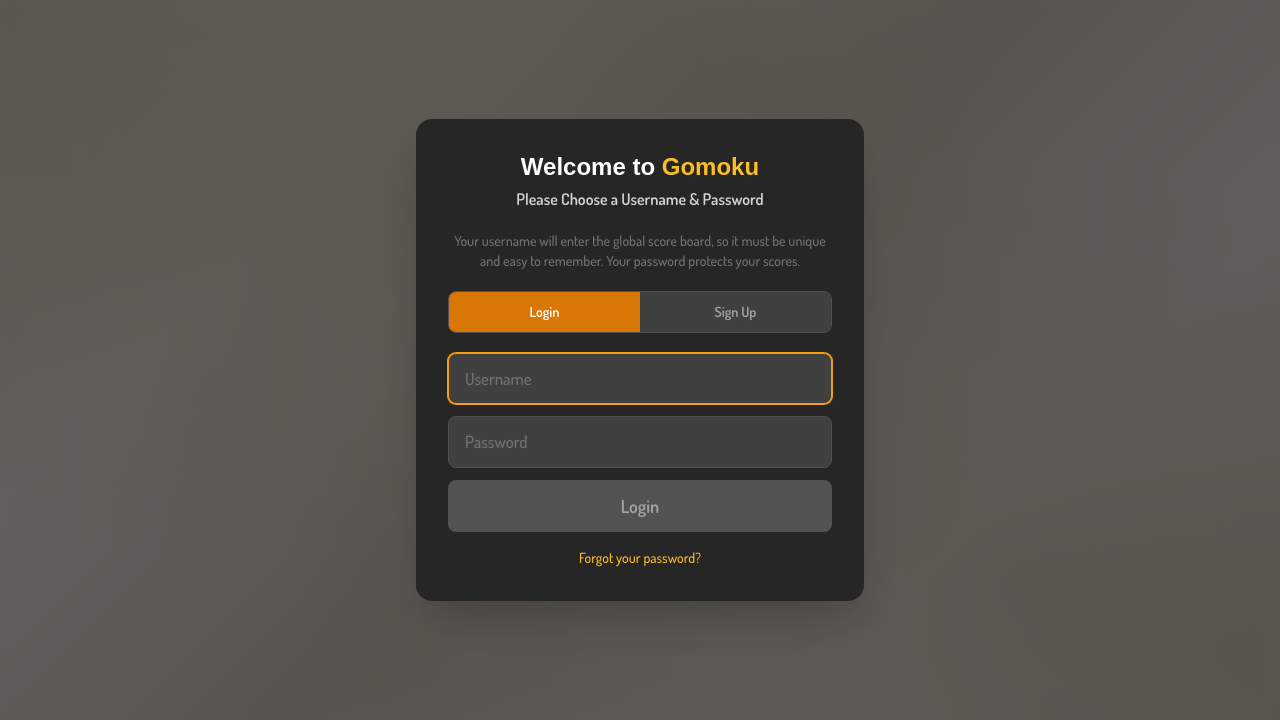
Test: AuthModal › validates username length
This screenshot has width=1280, height=720.
Click the button "Sign Up".
click(736, 312)  # box [640,292,831,332]
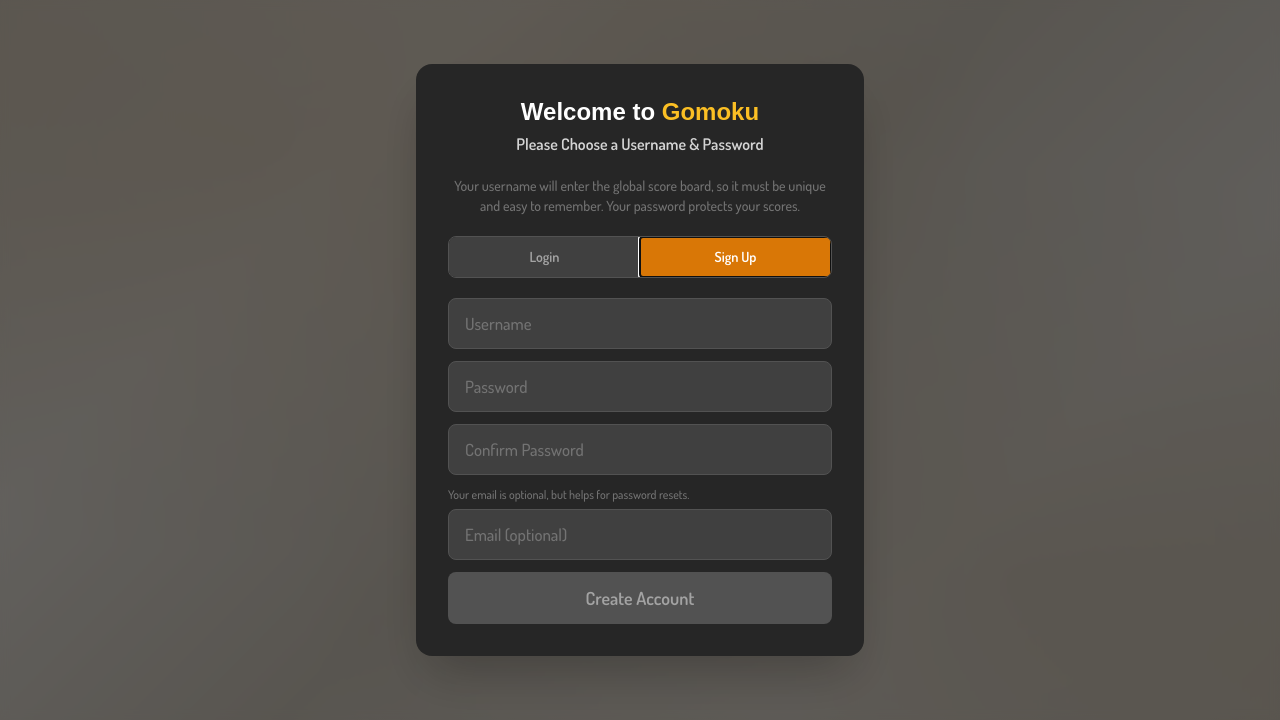
Type "a" into the field with placeholder "Username".
click(640, 323); type("a")  # box [448,298,832,349]
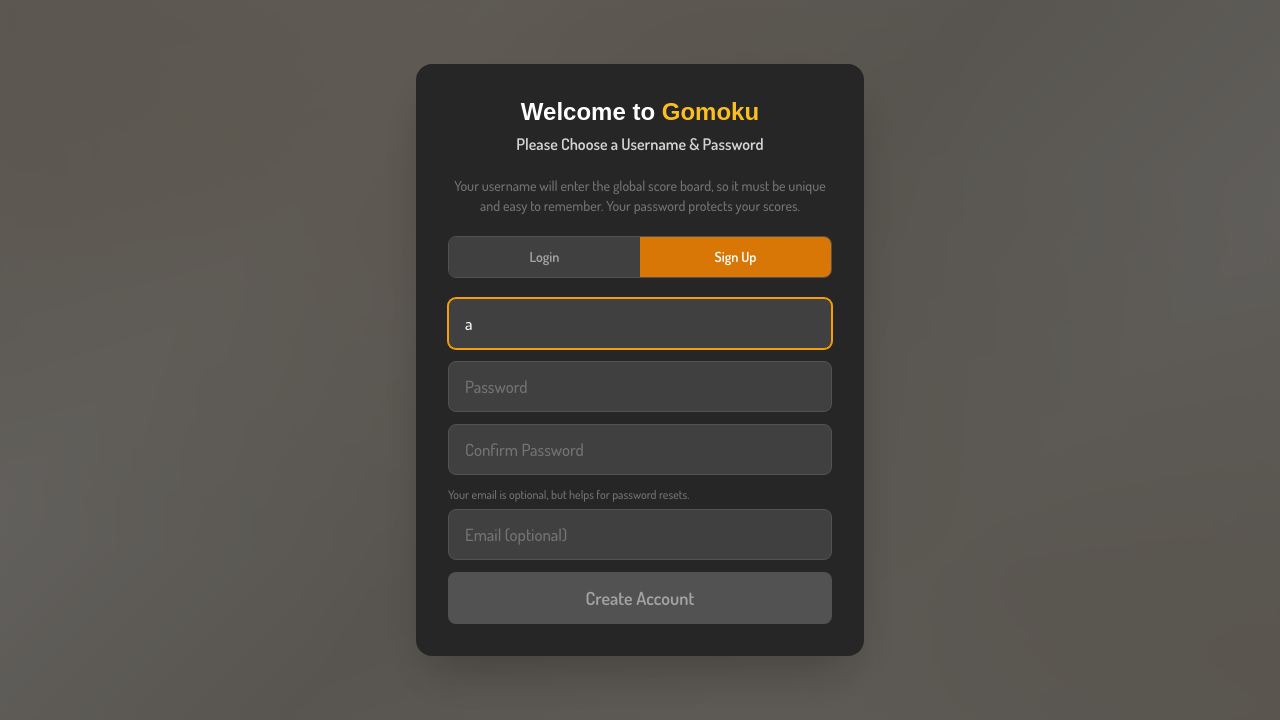
Type "password1" into the password field with placeholder "Password".
click(640, 386); type("password1")  # box [448,361,832,412]
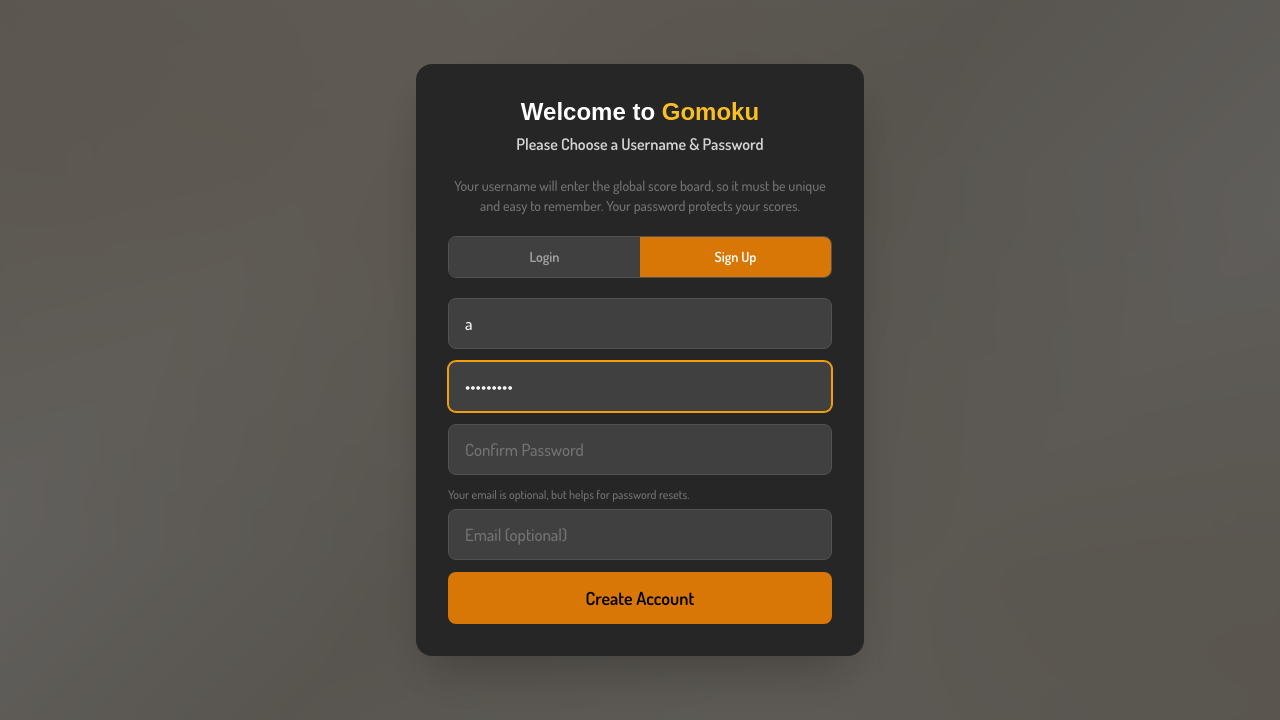
Type "password1" into the password field with placeholder "Confirm Password".
click(640, 450); type("password1")  # box [448,424,832,475]
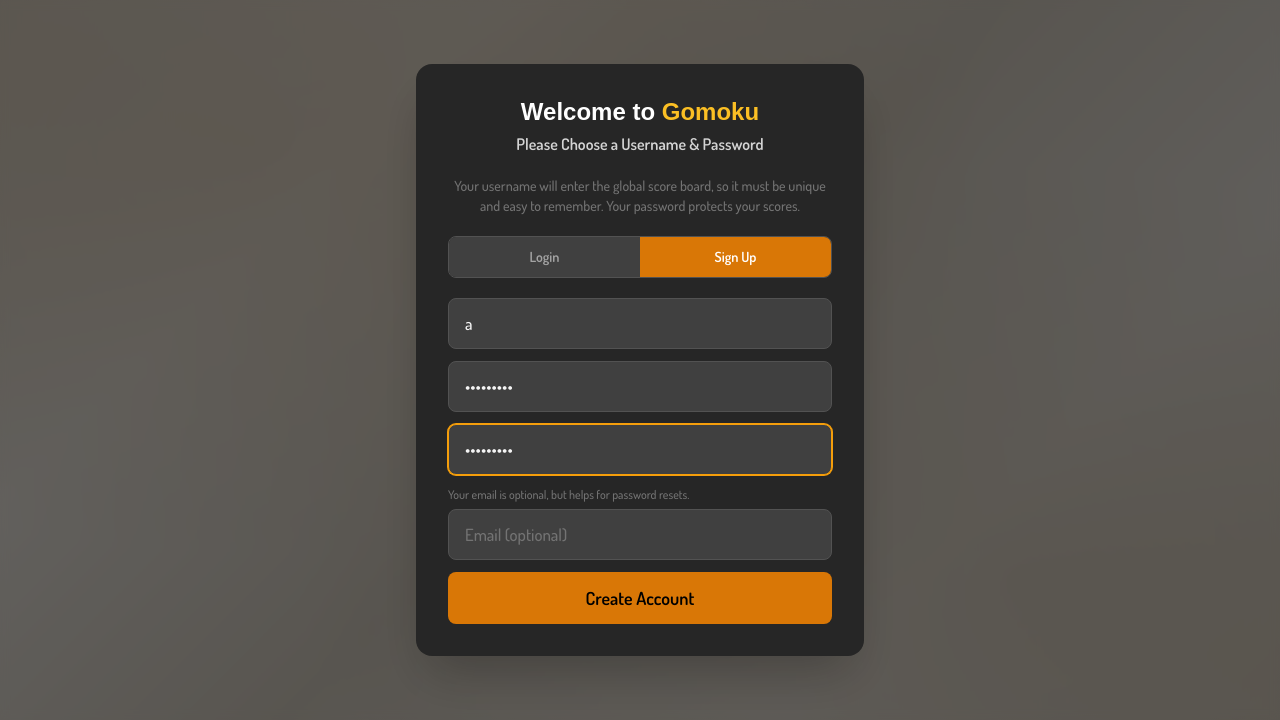
Click the button "Create Account".
click(640, 598)  # box [448,572,832,624]
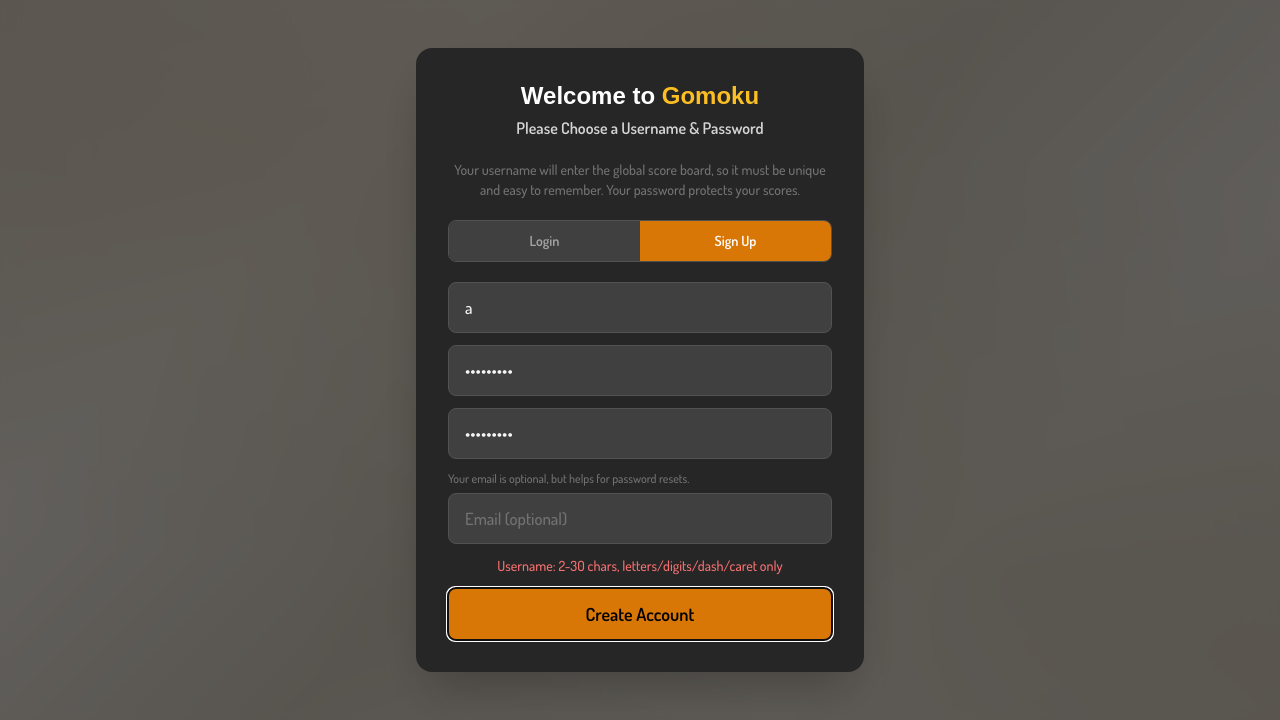
Check: the text "Username: 2-30 chars, letters/digits/dash/caret only" is shown, box [497,557,783,574]
